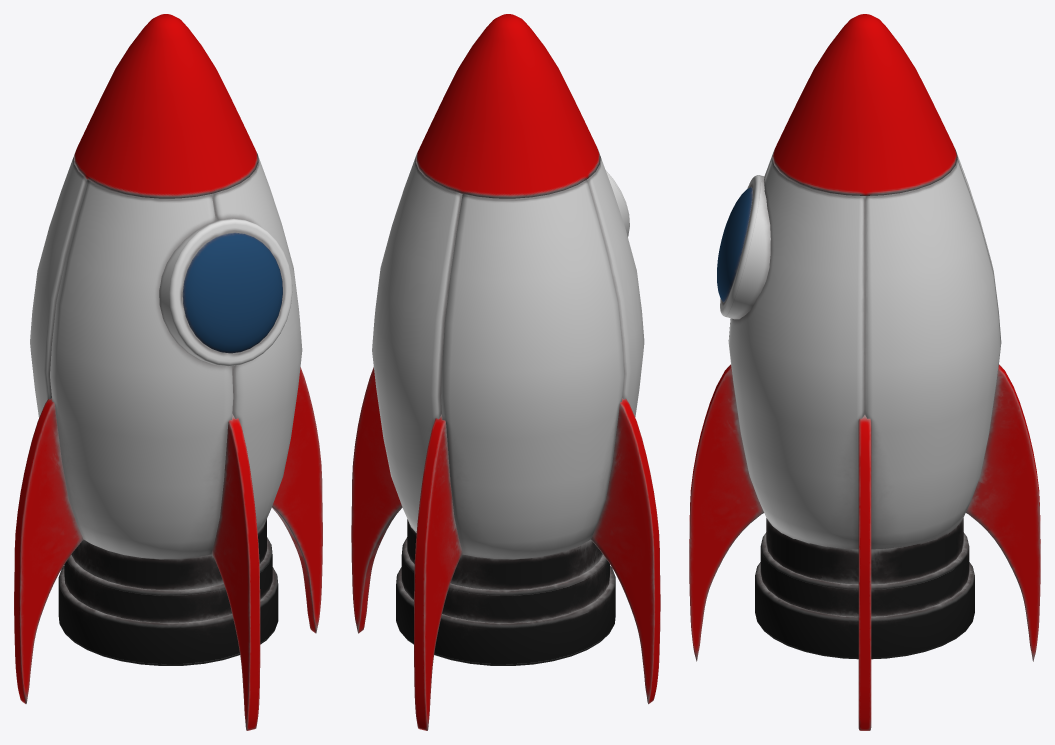
File: Nave2.obj
3 renders of one model, left to right at view 1: azimuth 30°, elevation 25°; view 2: azimuth 150°, elevation 25°; view 3: azimuth 270°, elevation 25°, orthographic.
Visible parts, largest first — view 1: Body_Cylinder_002, Wings_Cube_003, Tip_Cylinder_003, Engine_Cylinder_006, Window_001_Cylinder_008, Window_Cylinder_007; view 2: Body_Cylinder_002, Wings_Cube_003, Tip_Cylinder_003, Engine_Cylinder_006; view 3: Body_Cylinder_002, Wings_Cube_003, Engine_Cylinder_006, Tip_Cylinder_003, Window_Cylinder_007, Window_001_Cylinder_008.
Boxes of the visible parts, box(x1,y1,x2,y2) form: Body_Cylinder_002: box(30, 155, 302, 559); Wings_Cube_003: box(14, 367, 322, 730); Tip_Cylinder_003: box(73, 14, 258, 198); Engine_Cylinder_006: box(58, 519, 278, 665); Window_001_Cylinder_008: box(182, 232, 282, 353); Window_Cylinder_007: box(159, 218, 292, 366); Body_Cylinder_002: box(372, 155, 644, 559); Wings_Cube_003: box(351, 367, 660, 730); Tip_Cylinder_003: box(416, 14, 600, 198); Engine_Cylinder_006: box(396, 519, 615, 665); Body_Cylinder_002: box(728, 152, 1001, 549); Wings_Cube_003: box(689, 364, 1040, 730); Engine_Cylinder_006: box(755, 518, 974, 659); Tip_Cylinder_003: box(772, 14, 957, 195); Window_Cylinder_007: box(720, 175, 770, 319); Window_001_Cylinder_008: box(717, 187, 752, 302).
Size of the model in its own units: 36.76 by 75.37 by 37.38.
Materials: 1 (1 with a texture image).
